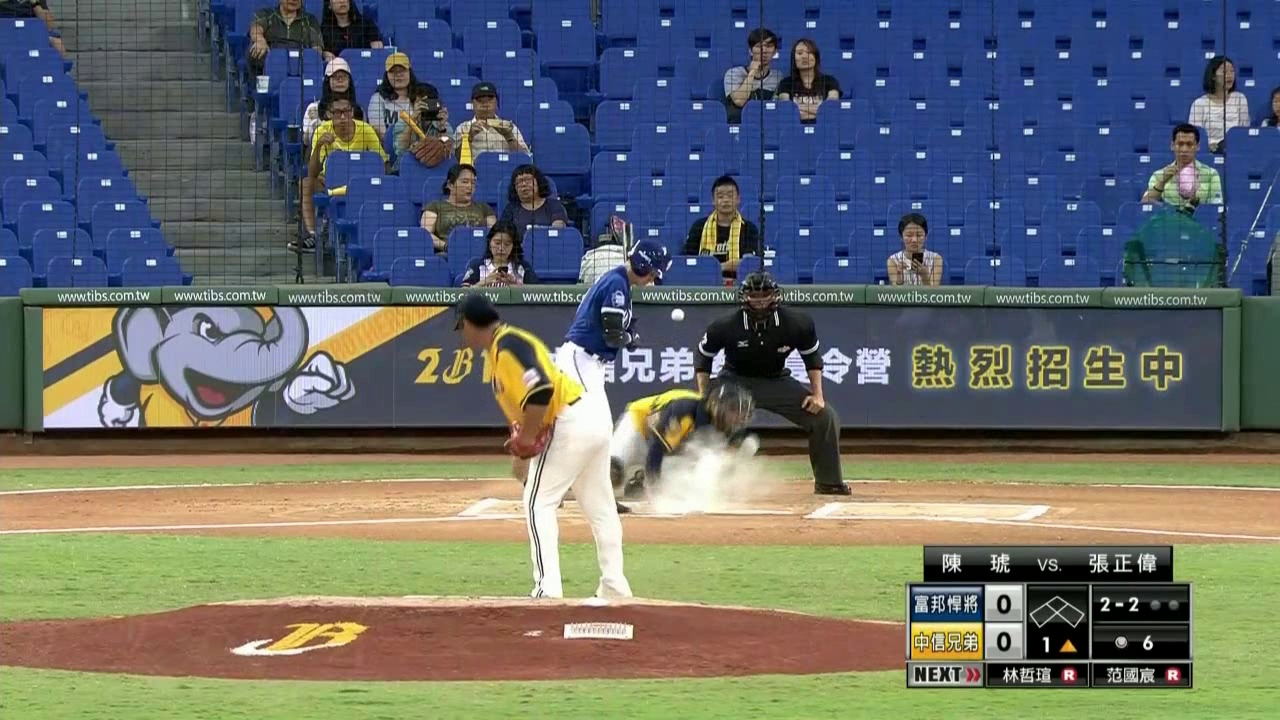ball: (689, 299, 714, 320)
base: (1027, 592, 1086, 627)
bat: (805, 219, 850, 328)
out: (1148, 595, 1183, 614)
score1: (985, 584, 1021, 621)
score2: (985, 622, 1022, 659)
session: (1034, 633, 1080, 654)
strikeball: (1097, 592, 1142, 615)
total: (1107, 631, 1157, 651)
